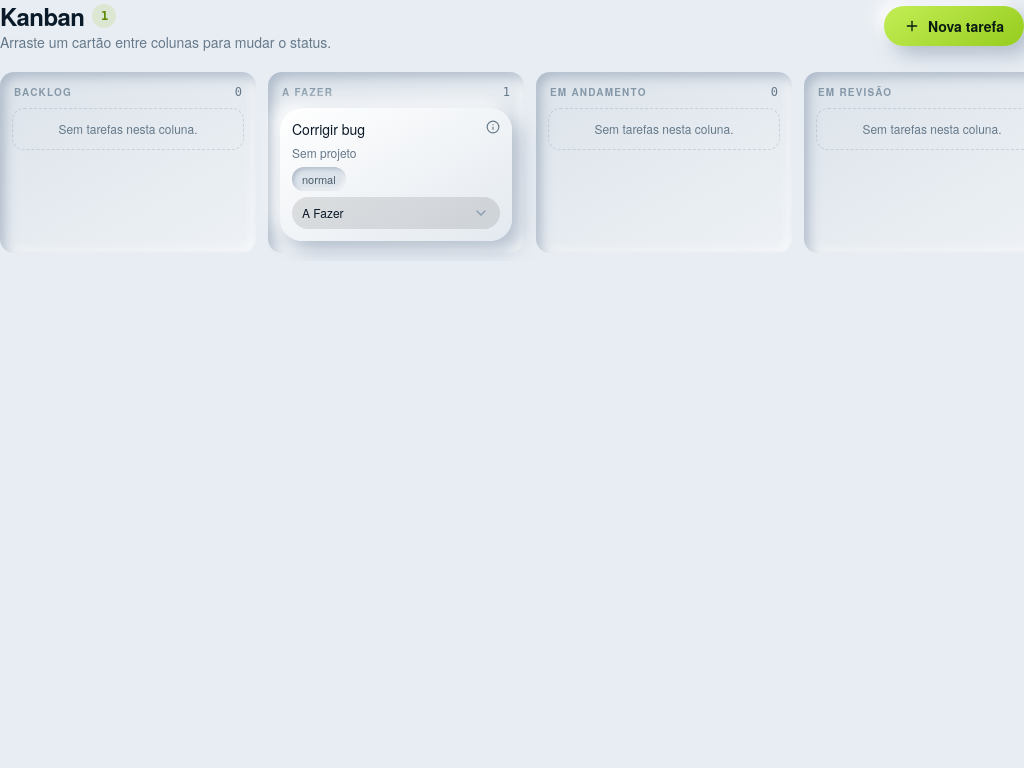
Test: Kanban page › opens the task detail dialog when a card's details button is clicked
Click the button named "ver detalhes de corrigir bug".
click(493, 127)  # box [486,120,500,134]
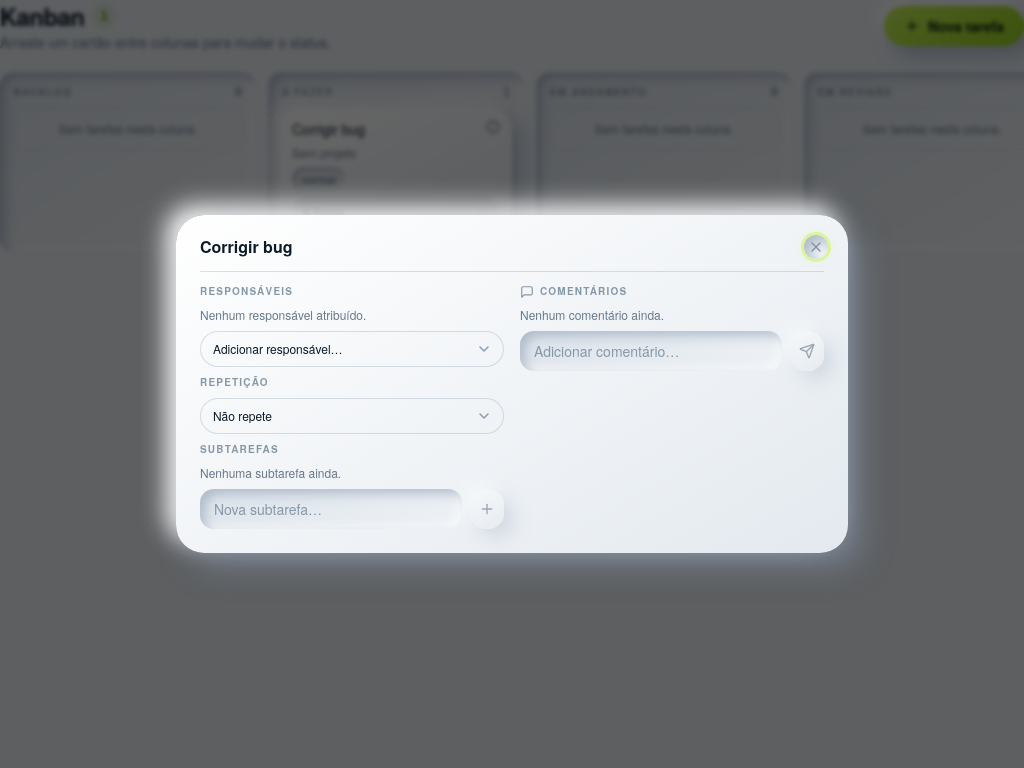
Expected: the heading "Corrigir bug" is shown, [200,235,292,258]
